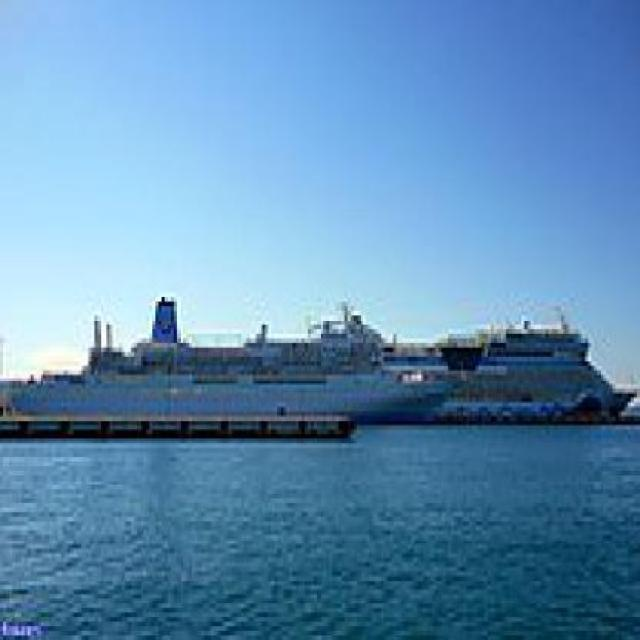cruise: (4, 280, 455, 449), (400, 307, 639, 449)
